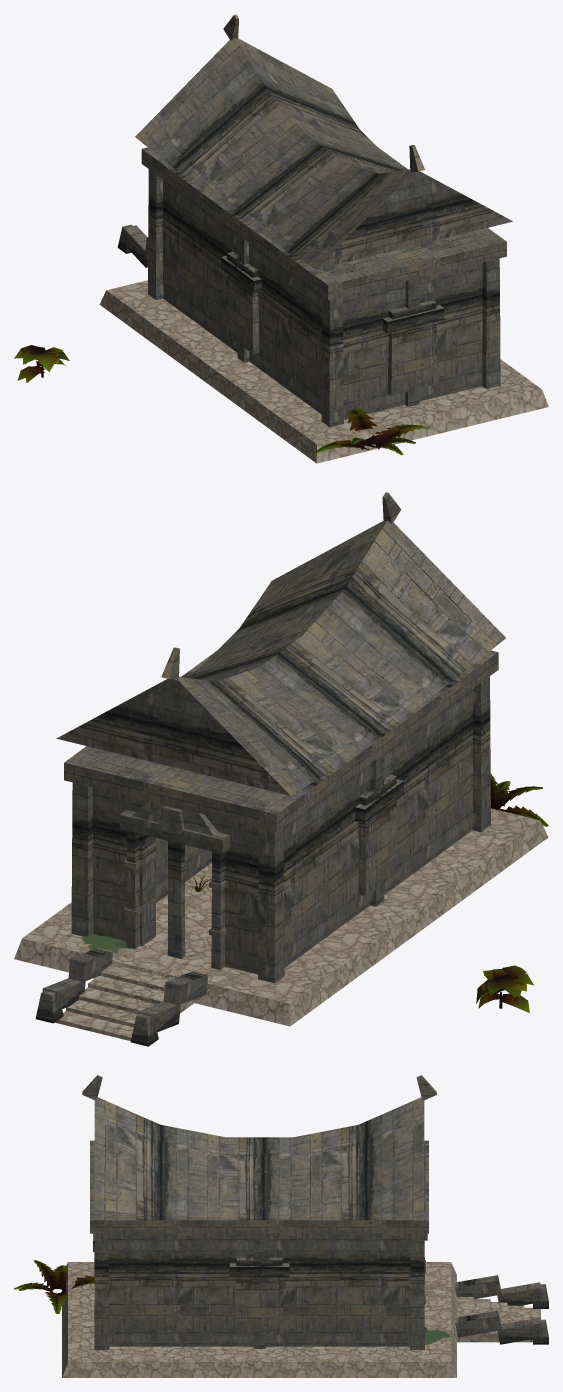
Rendered from prasat_intact_03.glb.
The picture shows the model from 3 angles, top to bottom: view 1: azimuth 30°, elevation 25°; view 2: azimuth 150°, elevation 25°; view 3: azimuth 270°, elevation 25°; orthographic projection. The views are drawn at different scales.
Visible parts, largest first — view 1: prasat_intact_03, prasat_intact_03_veg_00_fern_b, prasat_intact_03_veg_01_bush_a; view 2: prasat_intact_03, prasat_intact_03_veg_01_bush_a, prasat_intact_03_veg_00_fern_b; view 3: prasat_intact_03, prasat_intact_03_veg_00_fern_b.
Boxes of the visible parts, box(x1,y1,x2,y2) form: prasat_intact_03: box(99, 14, 548, 463); prasat_intact_03_veg_00_fern_b: box(315, 408, 429, 455); prasat_intact_03_veg_01_bush_a: box(14, 345, 69, 382); prasat_intact_03: box(14, 492, 548, 1046); prasat_intact_03_veg_01_bush_a: box(476, 965, 534, 1013); prasat_intact_03_veg_00_fern_b: box(490, 773, 548, 826); prasat_intact_03: box(62, 1075, 548, 1377); prasat_intact_03_veg_00_fern_b: box(14, 1260, 94, 1313).
Bounding box in the file's own units: 8.43 × 5.93 × 11.47.
Materials: 7 (7 with a texture image).
